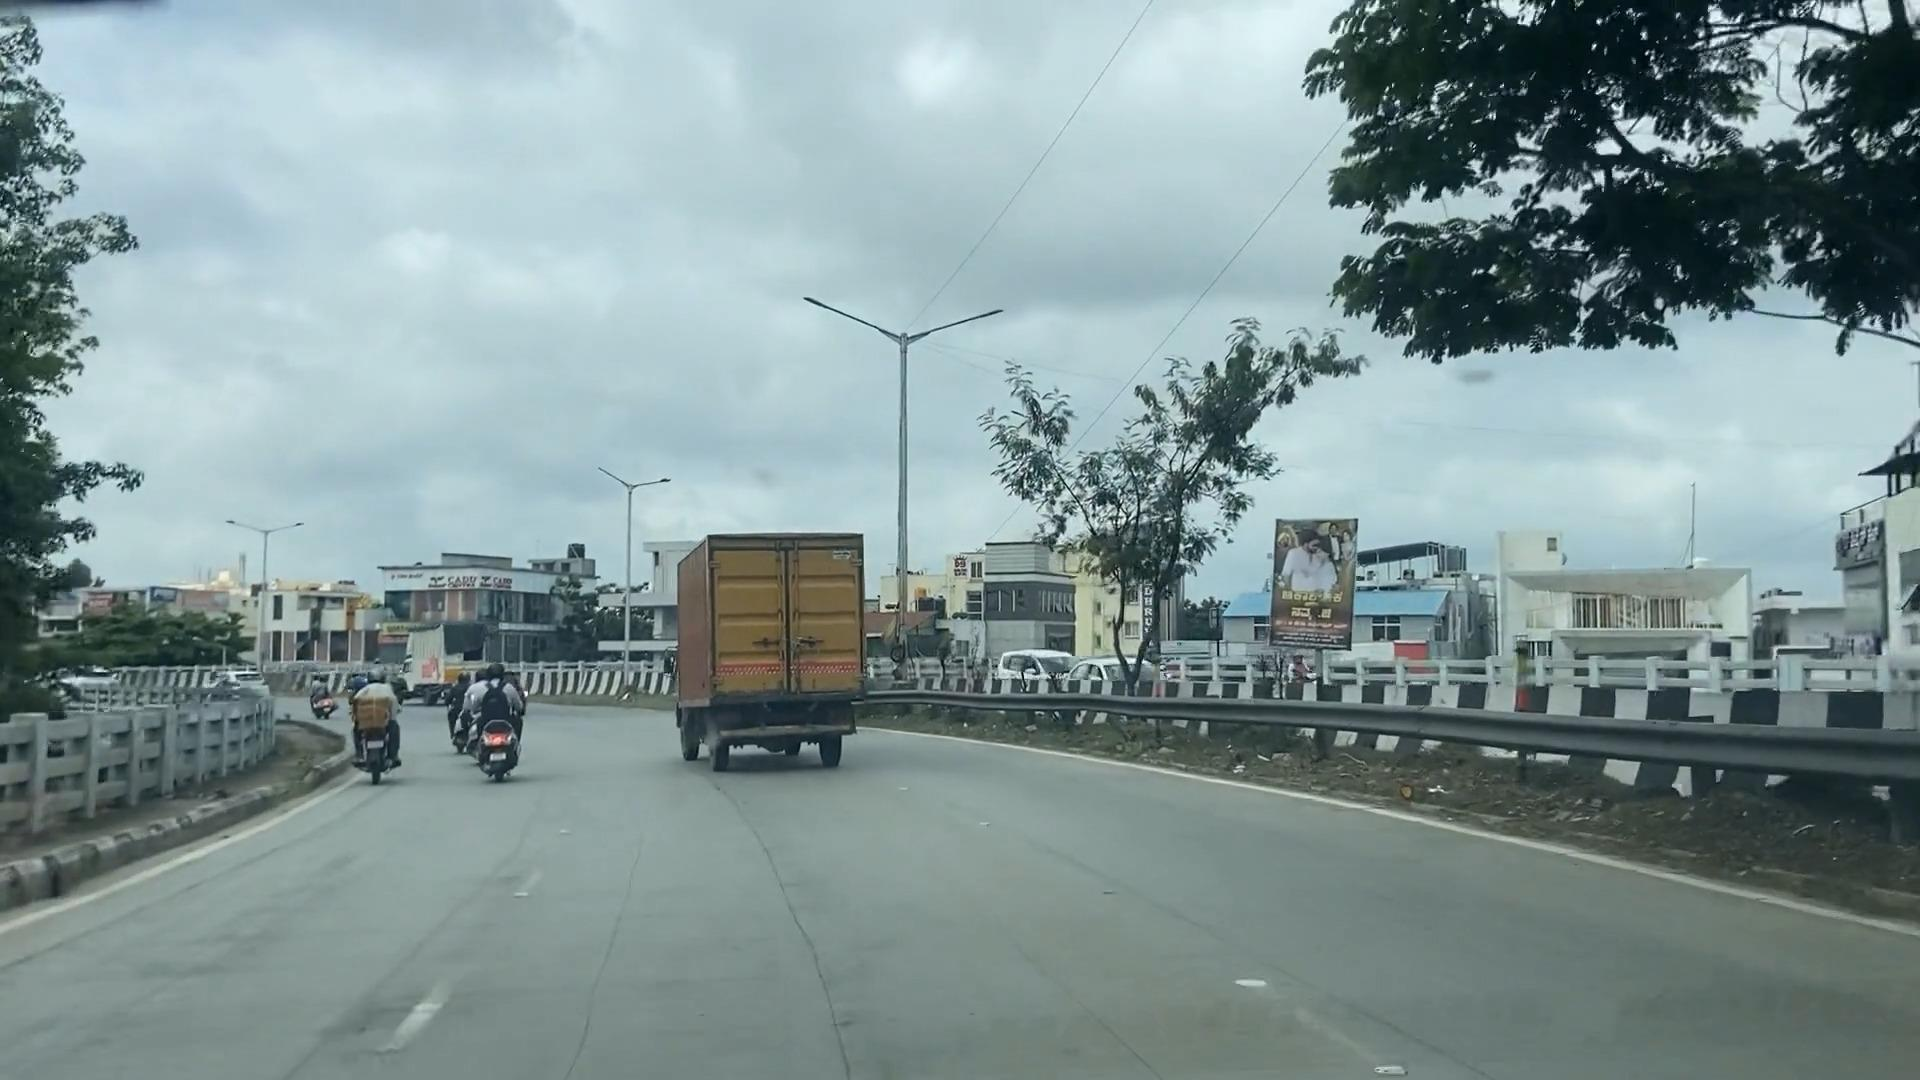HMV: (678, 518, 866, 774)
LMV: (344, 634, 406, 802), (460, 644, 526, 793)
